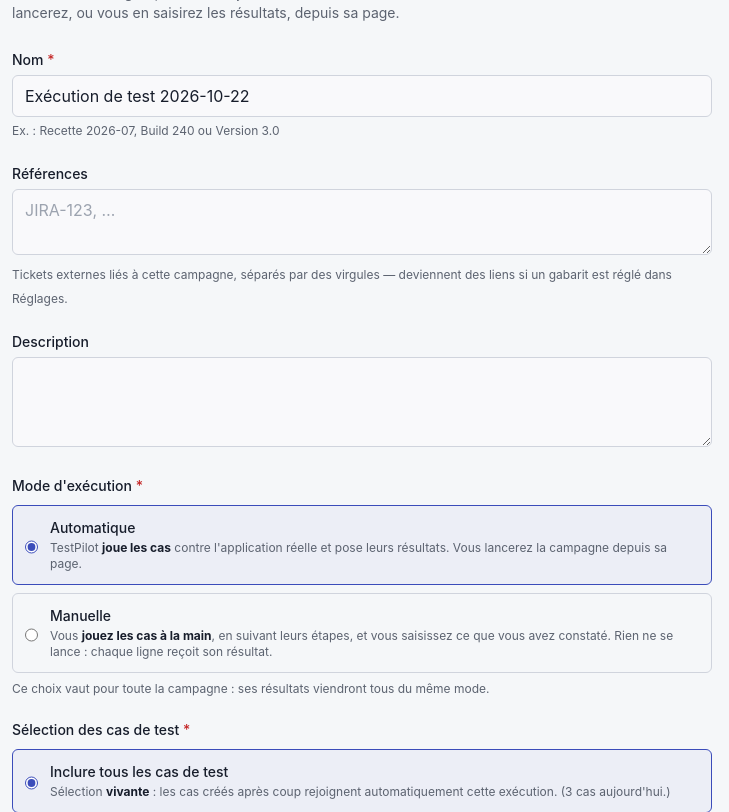
AddTestRunForm — jeux de données (PT-02b) › « Toutes les lignes » les coche toutes, puis revient à « Par défaut » seul
Replace the text in the field labelled "Nom * Ex. : Recette 2026-07, Build 240 ou Version 3.0" with "Recette" at (362, 96), box [12,75,712,117]
(page scrolled)
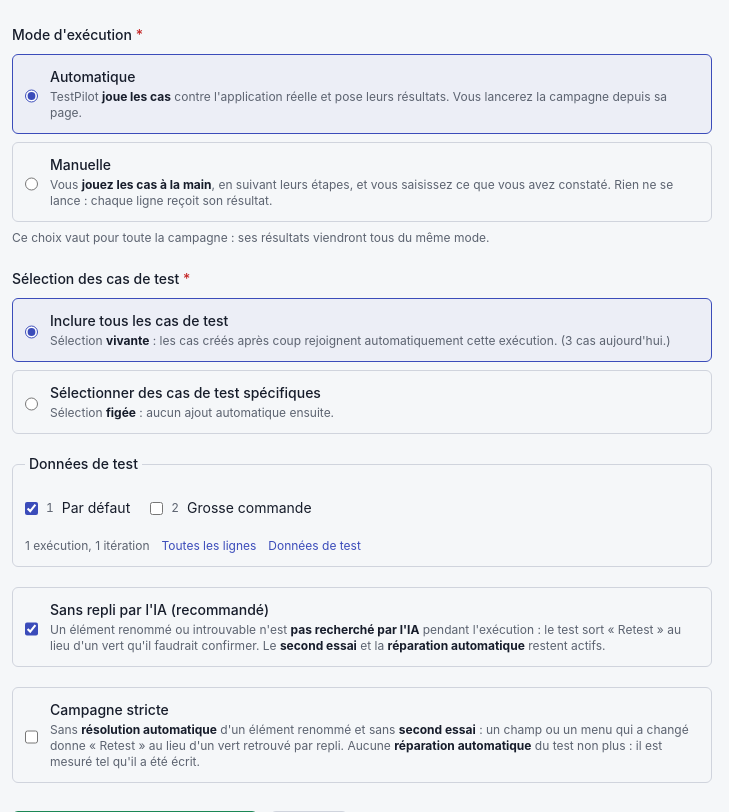
Click the button with test id "toutes-les-lignes" at (209, 546), box [162,538,256,554]
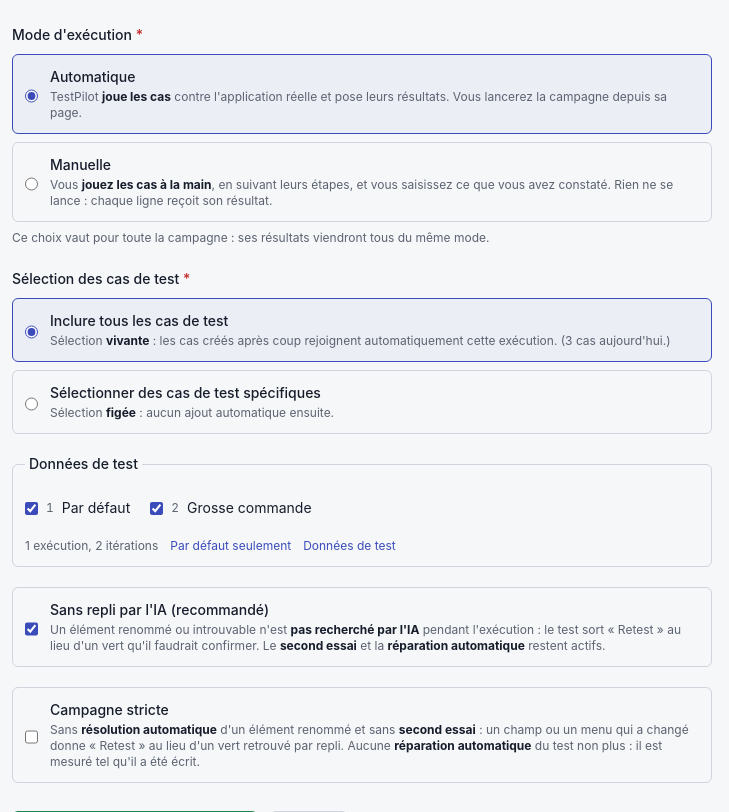
Expected: the text with test id "nombre-executions" reads "1 exécution, 2 itérations", [25,538,158,553]
Click the button with test id "toutes-les-lignes" at (231, 546), box [170,538,291,554]
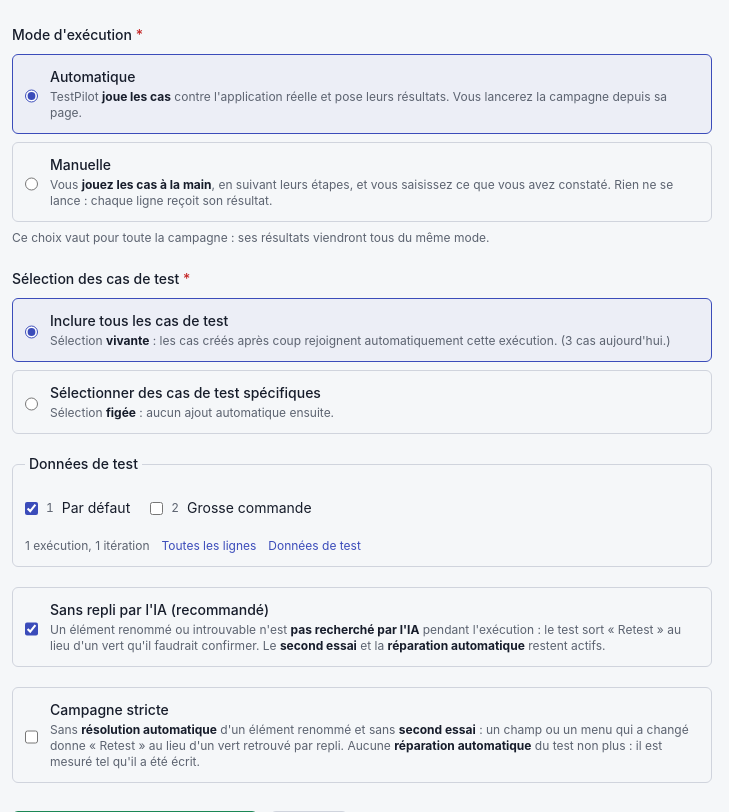
Expected: the text with test id "nombre-executions" reads "1 exécution, 1 itération", [25,538,150,553]
